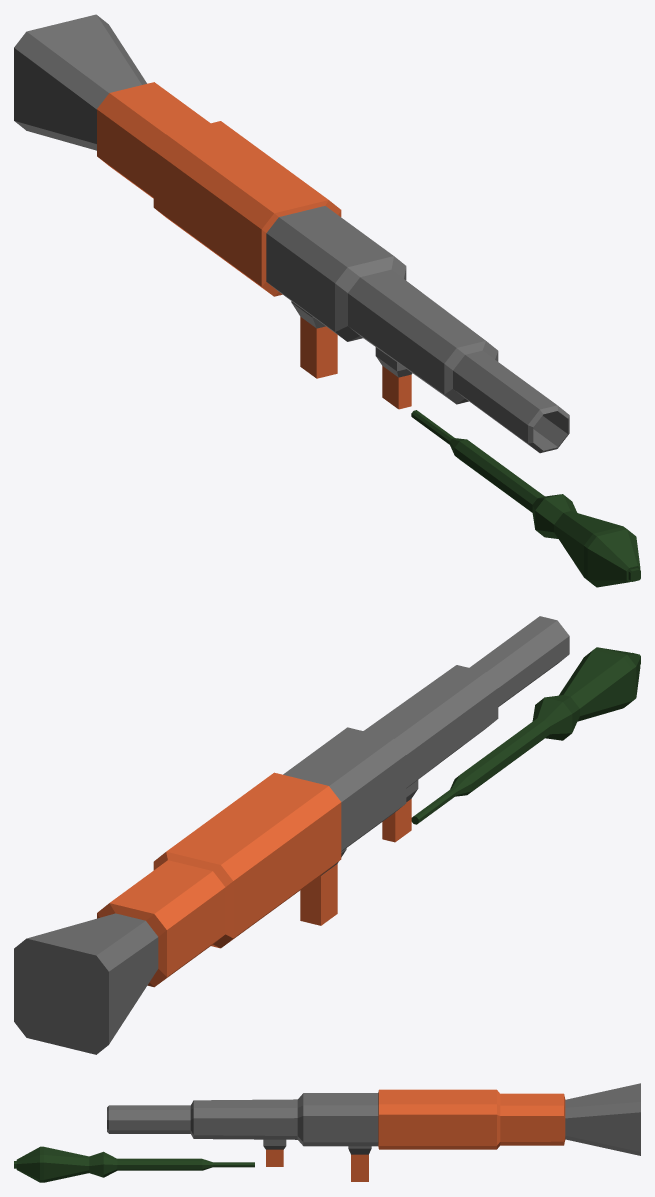
File: weapon_hv0 - rpg.fbx
3 renders of one model, top to bottom at view 1: azimuth 30°, elevation 25°; view 2: azimuth 150°, elevation 25°; view 3: azimuth 270°, elevation 25°, orthographic. The views are drawn at different scales.
Parts seen in each view (by area): view 1: hv0.main, hv0.rocket; view 2: hv0.main, hv0.rocket; view 3: hv0.main, hv0.rocket.
Part boxes in pixels (x1,y1,x2,y2): hv0.main: (14,14,569,453); hv0.rocket: (411,410,640,587); hv0.main: (14,616,569,1054); hv0.rocket: (411,647,640,824); hv0.main: (107,1083,640,1181); hv0.rocket: (14,1146,254,1182).
Size of the model in its own units: 60.53 by 96.78 by 634.
